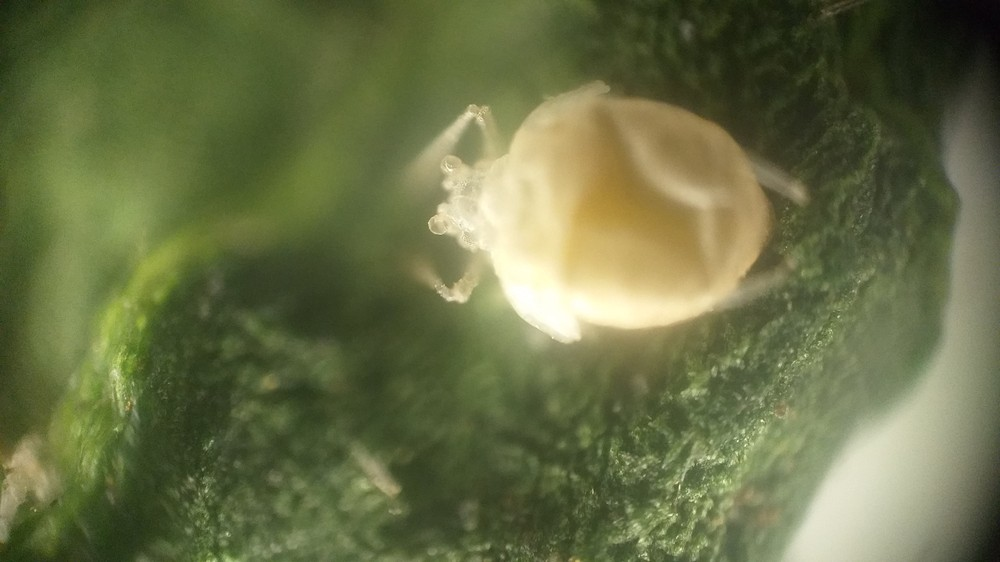Pulgon: (372, 74, 836, 362)
